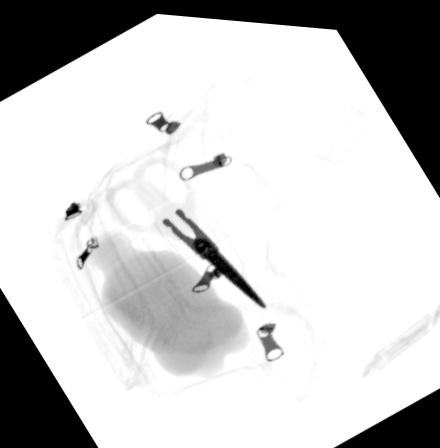Scissors: (103, 150, 266, 304)
